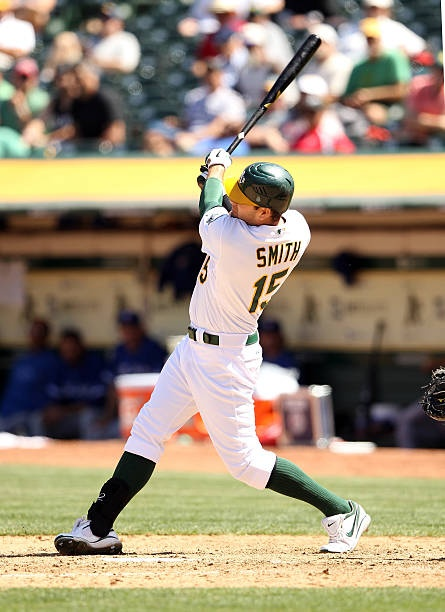bita: (212, 26, 322, 160)
